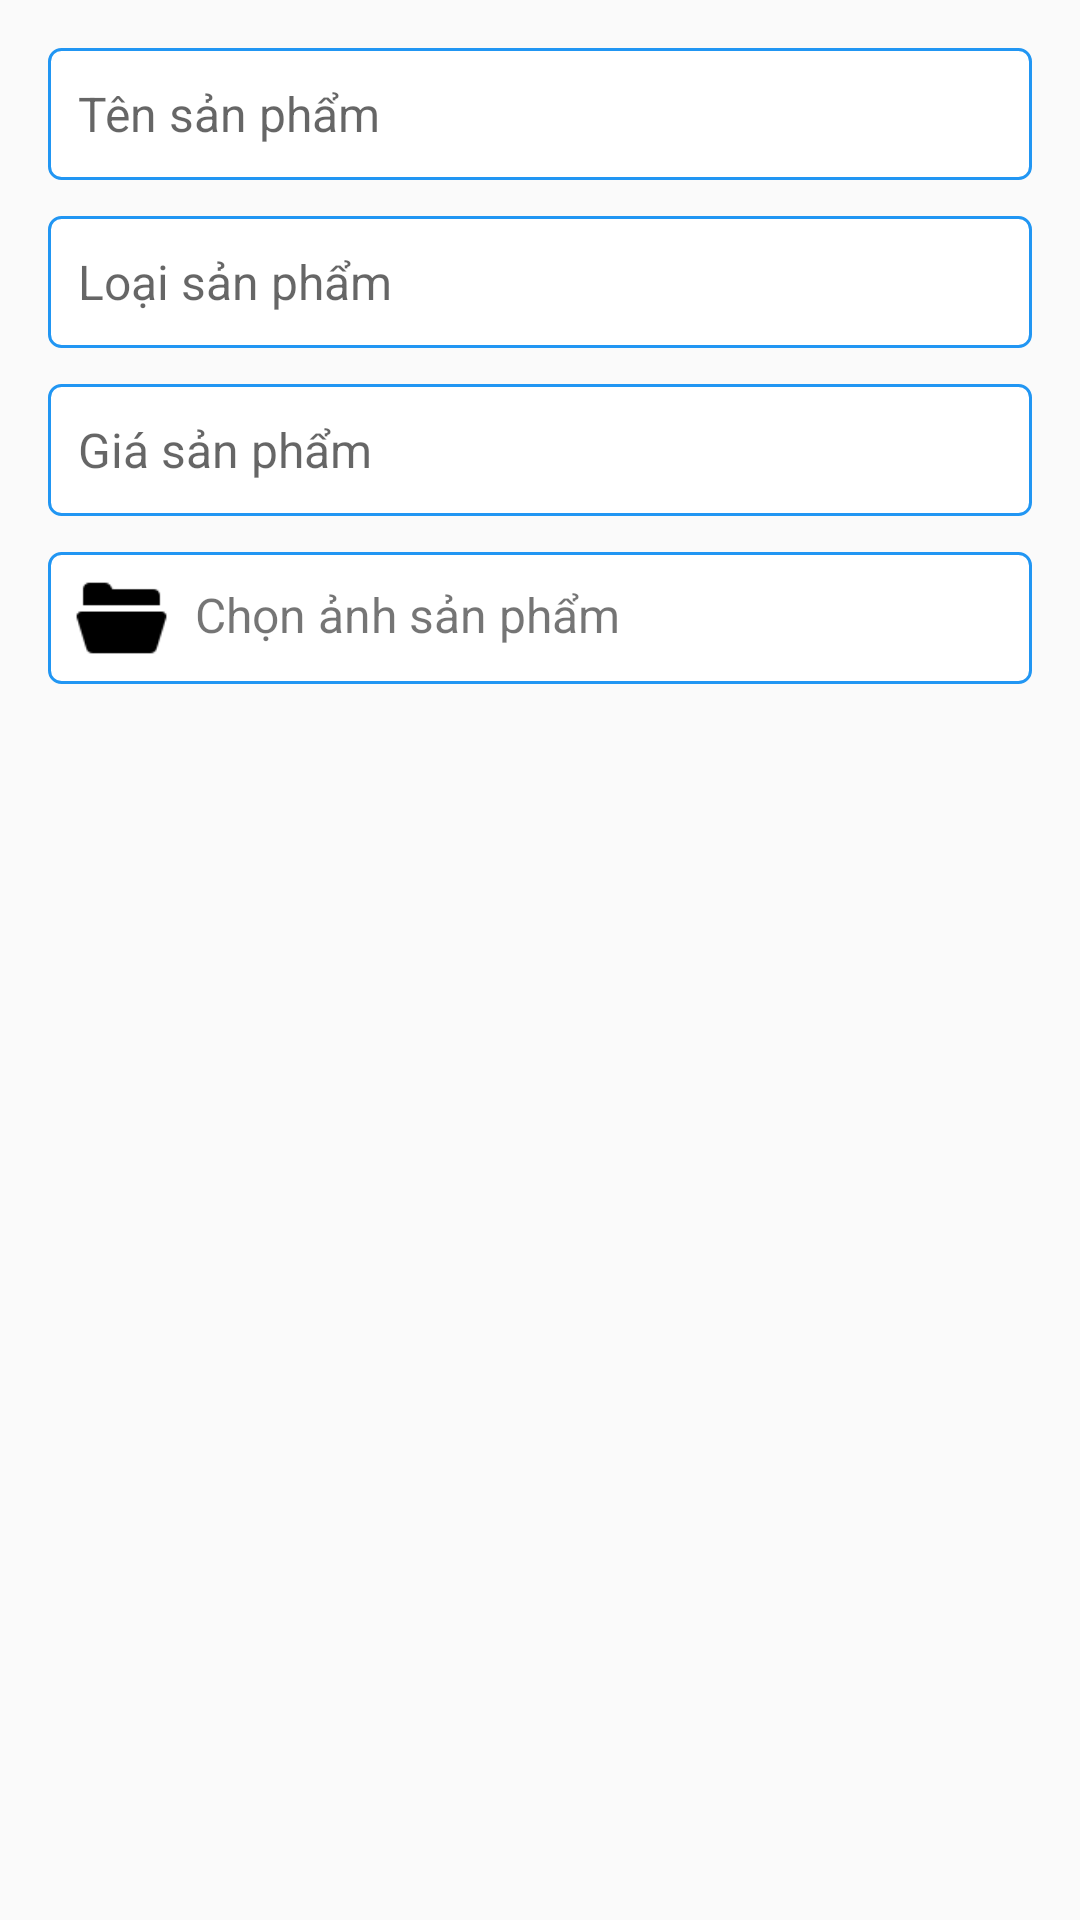

Icon bounding boxes for this 1080 × 1920 phone screenshot, format (x1, y1, x2, y2):
opened folder: (76, 582, 167, 654)
